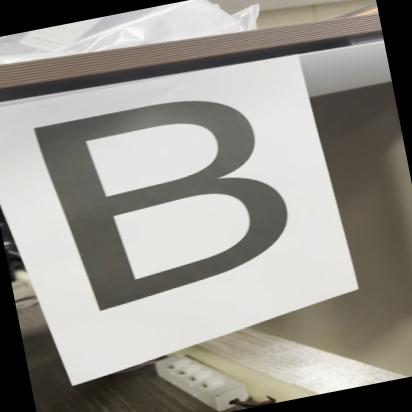seat: (27, 64, 340, 360)
